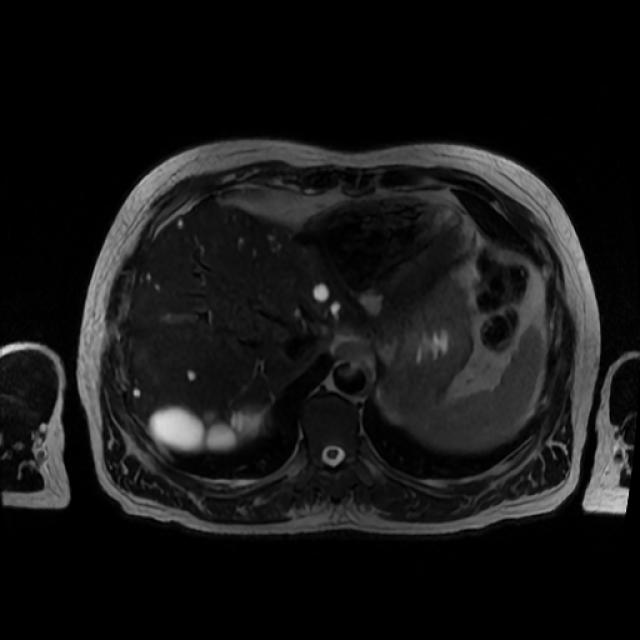sag: (150, 407, 266, 454)
